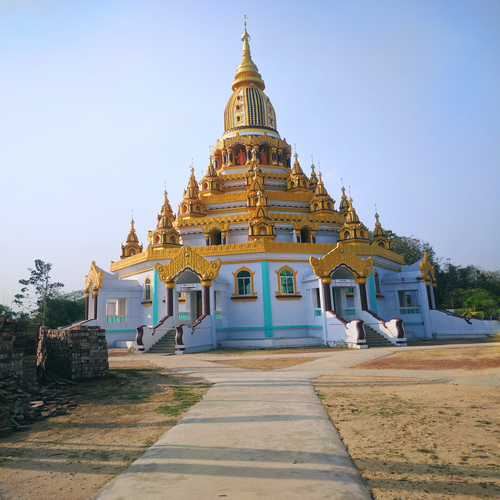Temple: (72, 40, 453, 355)
